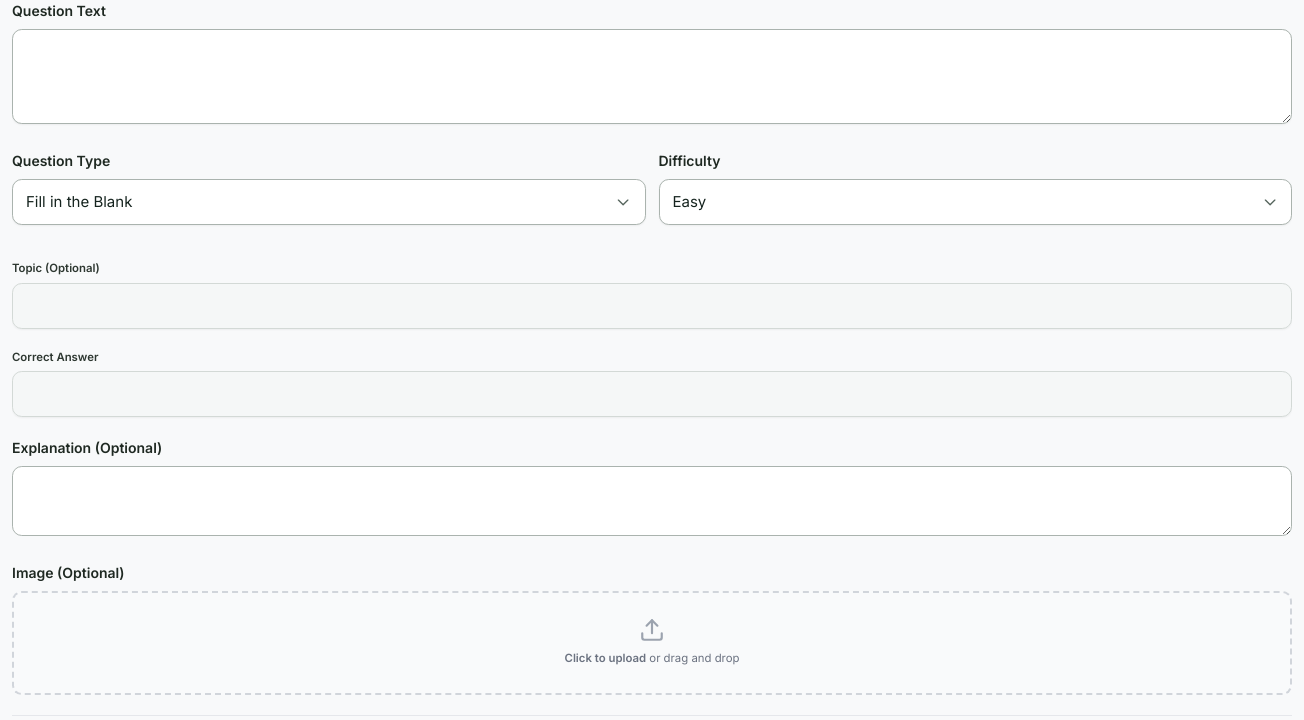
Test: Batch 2: Host Portal Comprehensive Automated Tests › Question Bank & Form Variants › validates Fill in the Blank question requires correct text answer
In the text box named "questionText" below "Question Text": (652,77) top-left (12, 29), bottom-right (1292, 124), type "The process of finding bugs is called ___."
(page scrolled)
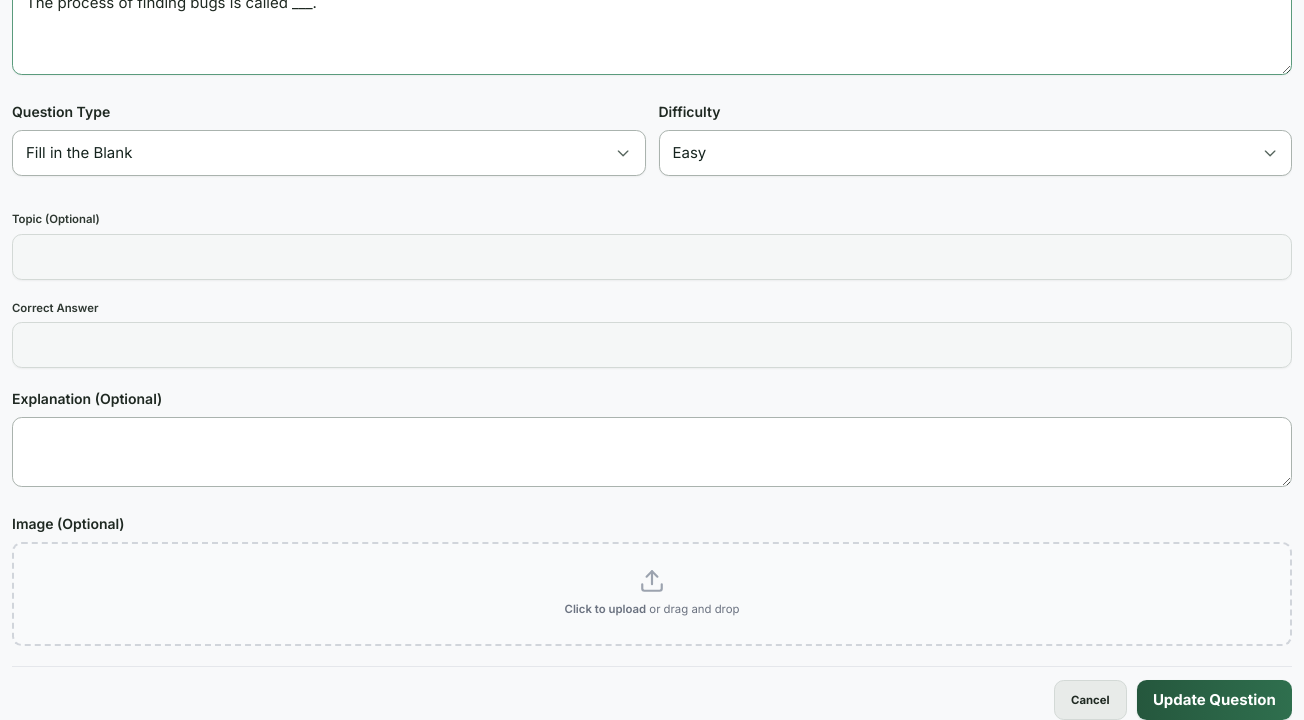
Click the button "Update Question": (1214,700) top-left (1137, 680), bottom-right (1292, 719)
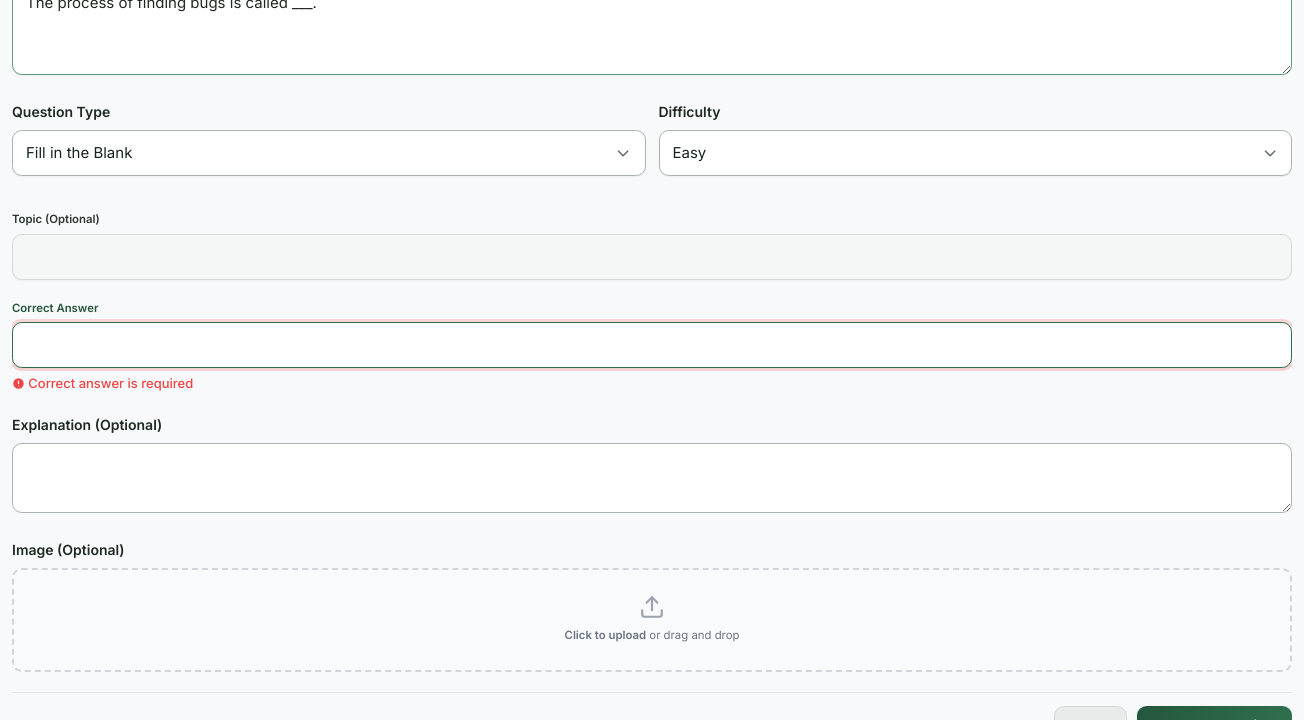
Check: the text "Correct answer is required" is shown, box top-left (12, 375), bottom-right (193, 391)
